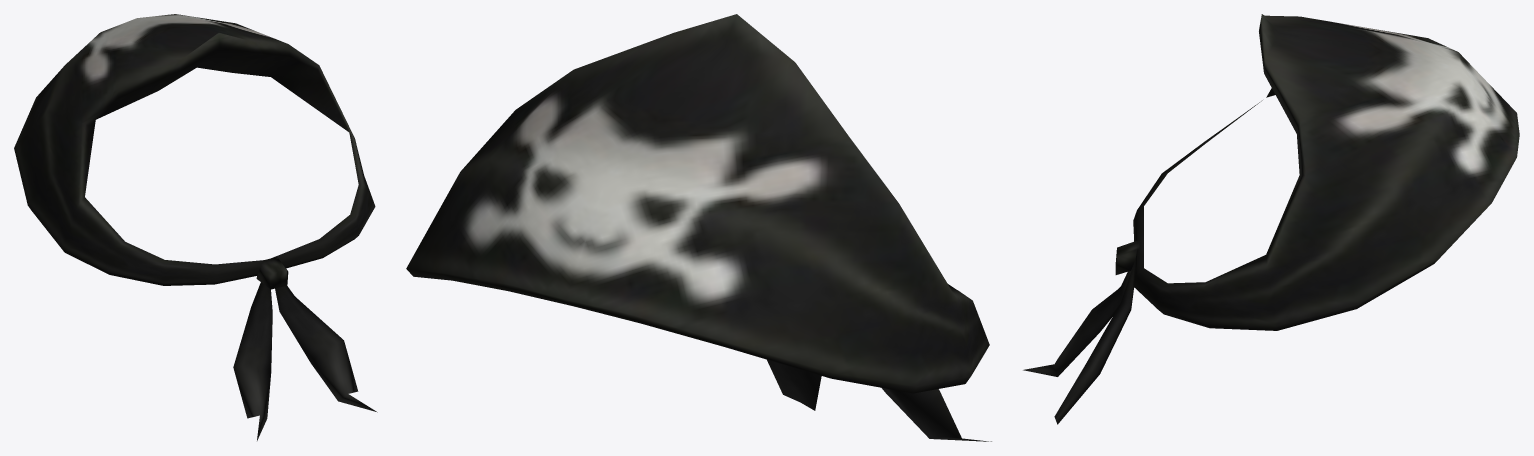
The model's file is pirateBandanaR.glb.
3 views of the same model, side by side, from view 1: azimuth 30°, elevation 25°; view 2: azimuth 150°, elevation 25°; view 3: azimuth 270°, elevation 25° (orthographic). The views are drawn at different scales.
Parts seen in each view (by area): view 1: pirateBandanaR; view 2: pirateBandanaR; view 3: pirateBandanaR.
Boxes of the visible parts, left/top/right/bottom form: pirateBandanaR: left=14, top=14, right=377, bottom=440; pirateBandanaR: left=406, top=14, right=991, bottom=441; pirateBandanaR: left=1023, top=14, right=1519, bottom=424.
Size of the model in its own units: 0.2858 by 0.2908 by 0.3345.
1 material, 1 textured.
